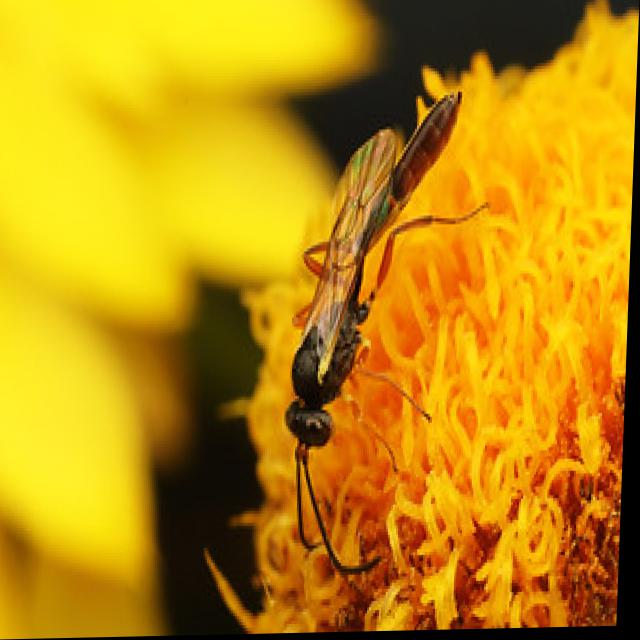Guepe: (251, 62, 499, 608)
